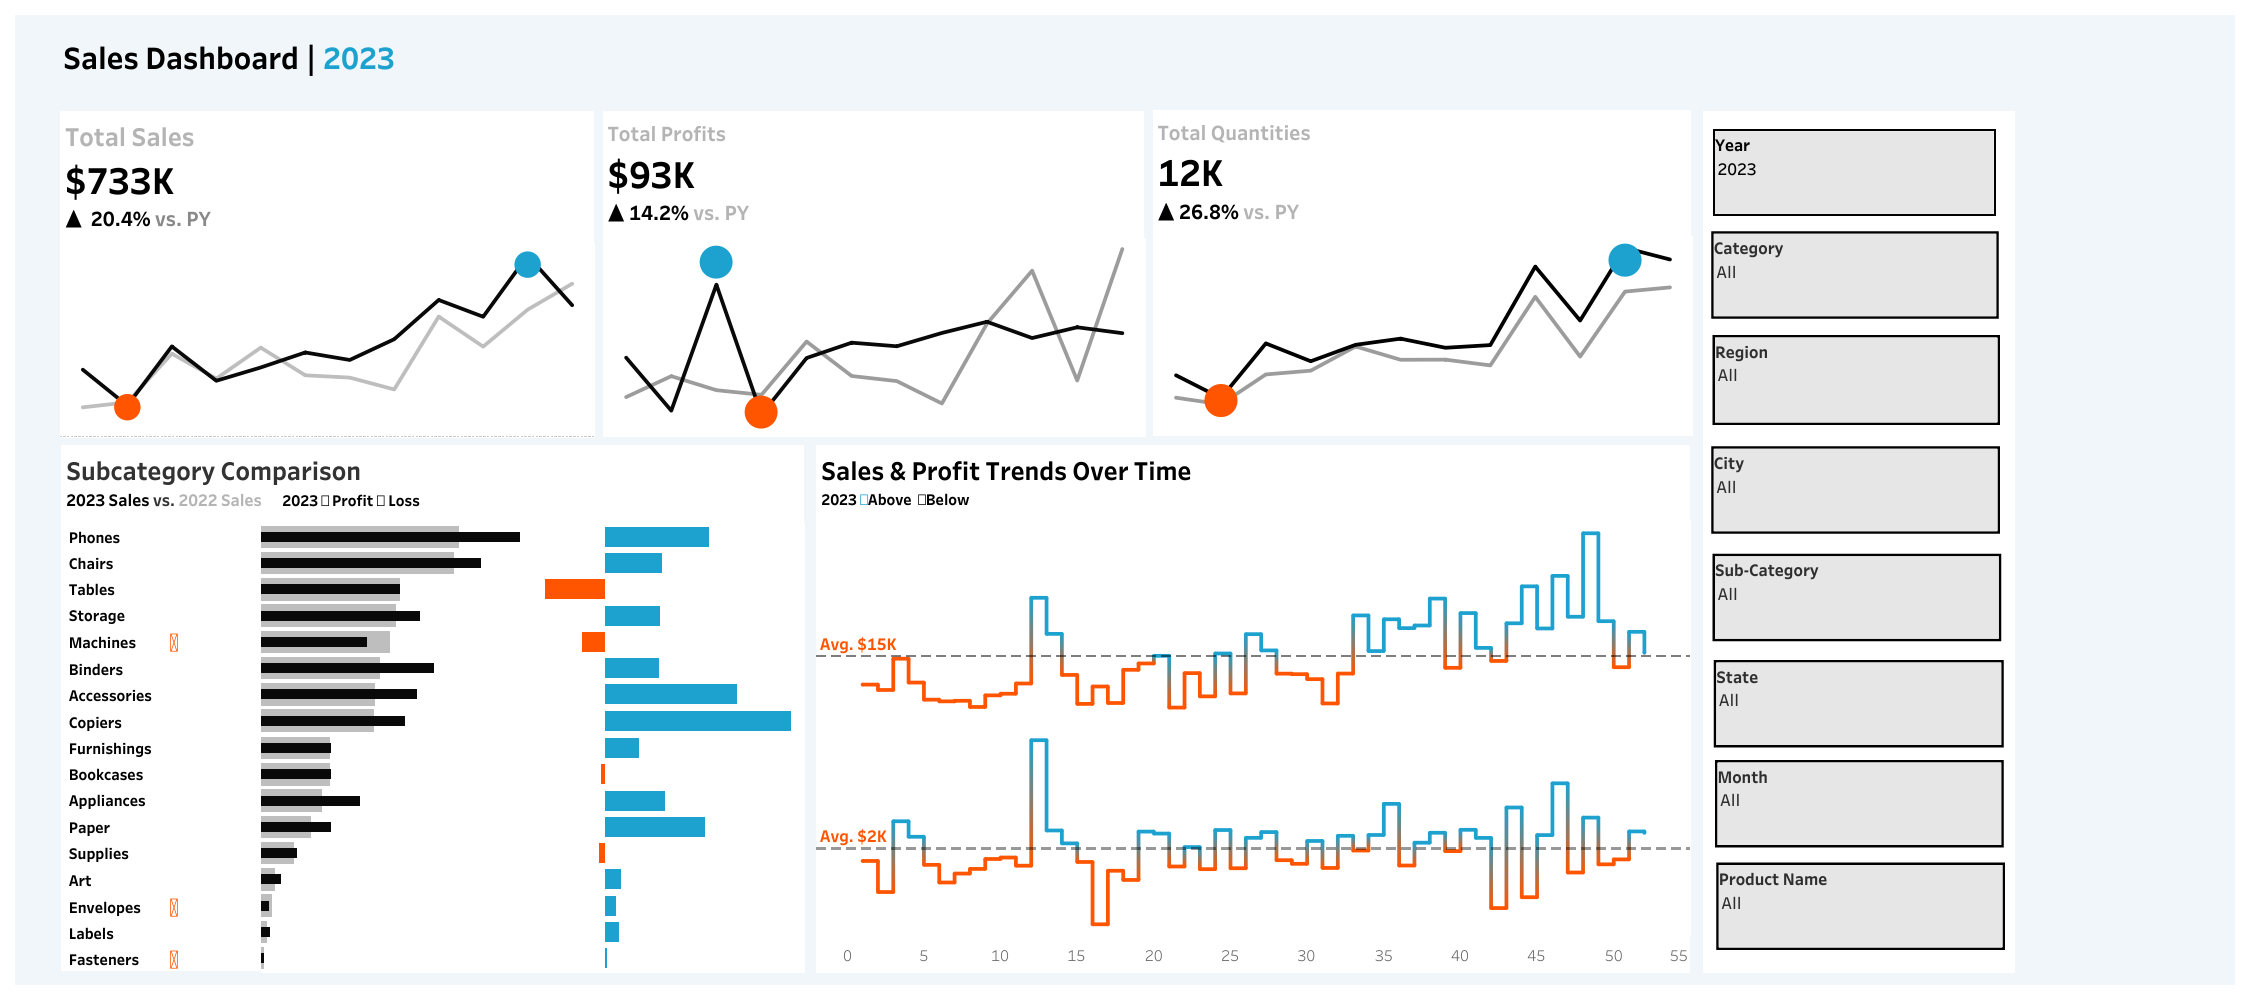

This screenshot's page, from the dashboard's own definition file:
{"tool":"tableau","page":{"name":"Sales Dashboard (Time Series Analysis)","canvas":[1800,800],"ordinal":2},"visuals":[{"type":"text","box":[48,22,530,46]},{"type":"worksheet","title":"KPI Quantities","mark":"Automatic","rows":["Calculation_2523704665826959390"],"cols":["Order Date"],"box":[922,88,431,260]},{"type":"worksheet","title":"KPI Sales","mark":"Automatic","rows":["Calculation_1111263232332292100"],"cols":["Order Date"],"box":[48,89,427,260]},{"type":"worksheet","title":"KPI Profits","mark":"Automatic","rows":["Calculation_2523704665820090394"],"cols":["Order Date"],"box":[482,89,433,259]},{"type":"blank","box":[1362,89,250,689]},{"type":"parameter","param":"[Parameters].[Parameter 1]","box":[1370,103,227,70]},{"type":"filter","title":"KPI Sales","param":"[federated.1cigewr1oqiyih1h7v9d20mqdo5r].[none:Category:nk]","box":[1369,185,230,70]},{"type":"filter","title":"KPI Sales","param":"[federated.1cigewr1oqiyih1h7v9d20mqdo5r].[none:Region:nk]","box":[1370,268,230,72]},{"type":"worksheet","title":"Subcategory Comparison","mark":"Bar","rows":["Sub-Category","Calculation_1409063758149939200"],"cols":["Calculation_1111263232315305985","Calculation_1111263232314884096","Calculation_2523704665811128334"],"box":[49,356,594,421]},{"type":"worksheet","title":"Weekly Trends","mark":"Automatic","rows":["Calculation_1111263232314884096","Calculation_2523704665811128334"],"cols":["Order Date"],"box":[653,356,699,422]},{"type":"filter","title":"KPI Sales","param":"[federated.1cigewr1oqiyih1h7v9d20mqdo5r].[none:City:nk]","box":[1369,357,231,70]},{"type":"filter","title":"KPI Sales","param":"[federated.1cigewr1oqiyih1h7v9d20mqdo5r].[none:Sub-Category:nk]","box":[1370,443,231,70]},{"type":"filter","title":"KPI Sales","param":"[federated.1cigewr1oqiyih1h7v9d20mqdo5r].[none:State:nk]","box":[1371,528,232,70]},{"type":"filter","title":"KPI Sales","param":"[federated.1cigewr1oqiyih1h7v9d20mqdo5r].[none:Calculation_2546785614383792128:o","box":[1372,608,231,70]},{"type":"filter","title":"KPI Sales","param":"[federated.1cigewr1oqiyih1h7v9d20mqdo5r].[none:Product Name:nk]","box":[1373,690,231,70]}]}

Visuals, with their boxes in screenshot pixels (x1, y1, x2, y2), scaled from the page's 1800x800 canvas onto the 2249x999 screenshot:
text: [60,27,722,85]
"KPI Quantities" worksheet: [1152,110,1690,435]
"KPI Sales" worksheet: [60,111,593,436]
"KPI Profits" worksheet: [602,111,1143,435]
blank: [1702,111,2014,972]
parameter: [1712,129,1995,216]
"KPI Sales" filter: [1710,231,1998,318]
"KPI Sales" filter: [1712,335,1999,425]
"Subcategory Comparison" worksheet (Bar marks): [61,445,803,970]
"Weekly Trends" worksheet: [816,445,1689,972]
"KPI Sales" filter: [1710,446,1999,533]
"KPI Sales" filter: [1712,553,2000,641]
"KPI Sales" filter: [1713,659,2003,747]
"KPI Sales" filter: [1714,759,2003,847]
"KPI Sales" filter: [1715,862,2004,949]
